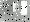person: (22, 2, 28, 16), (15, 5, 20, 16)
